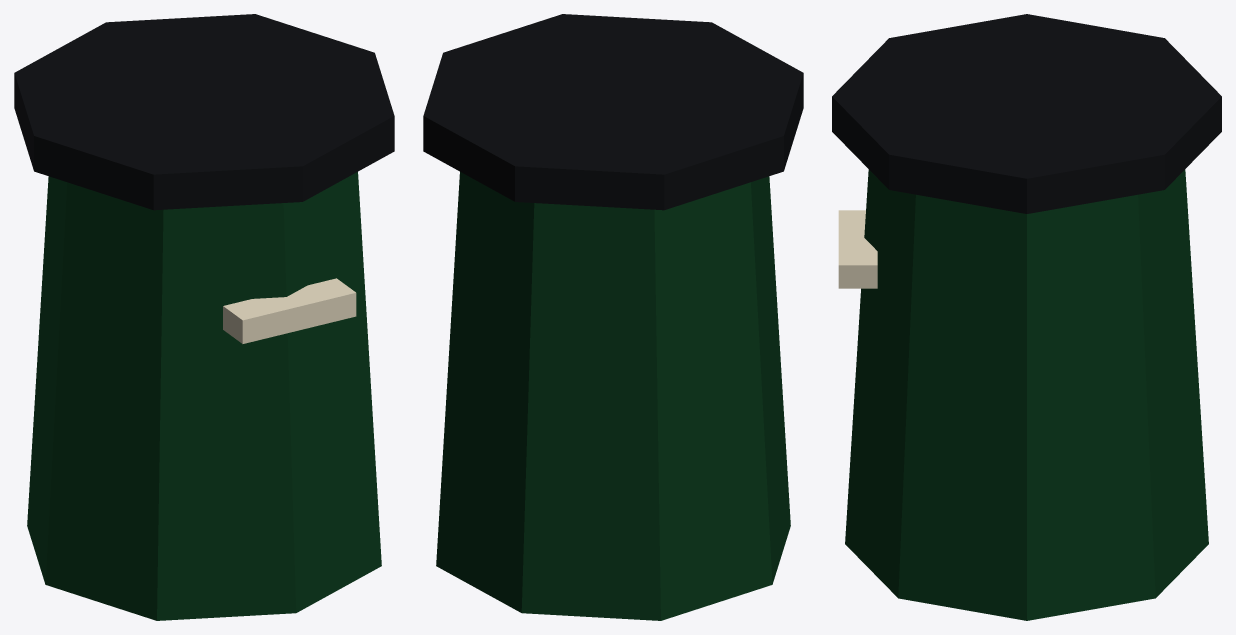
File: trash_can.obj
The picture shows the model from 3 angles, left to right: view 1: azimuth 30°, elevation 25°; view 2: azimuth 150°, elevation 25°; view 3: azimuth 270°, elevation 25°; orthographic projection.
Parts seen in each view (by area): view 1: trash_can; view 2: trash_can; view 3: trash_can.
Part boxes in pixels (<box>): trash_can: <box>14,14,394,620</box>; trash_can: <box>423,14,803,620</box>; trash_can: <box>832,14,1221,620</box>.
Bounding box in the file's own units: 0.6 × 0.76 × 0.6.
